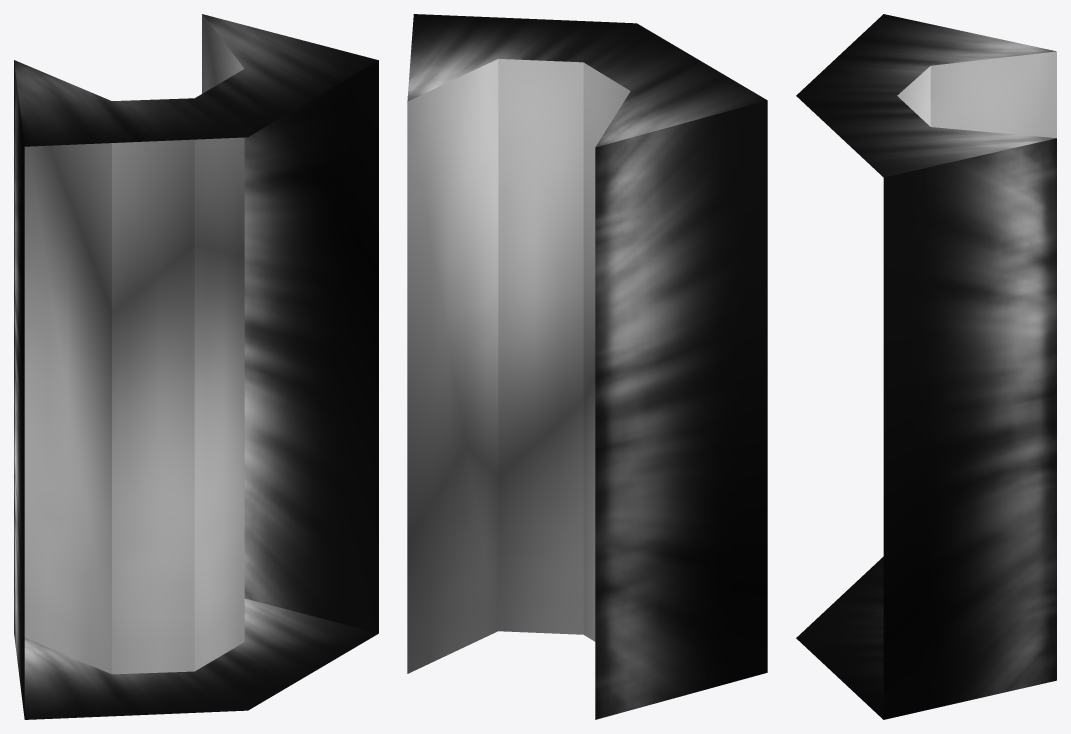
Rendered from Light_Neon_lightcone.FBX.
3 renders of one model, left to right at view 1: azimuth 30°, elevation 25°; view 2: azimuth 150°, elevation 25°; view 3: azimuth 270°, elevation 25°, orthographic. The views are drawn at different scales.
Parts seen in each view (by area): view 1: Light_Neon_lightcone; view 2: Light_Neon_lightcone; view 3: Light_Neon_lightcone.
Boxes of the visible parts, bbox=[...] form: Light_Neon_lightcone: bbox=[14, 14, 378, 719]; Light_Neon_lightcone: bbox=[407, 14, 767, 719]; Light_Neon_lightcone: bbox=[796, 14, 1056, 719].
Bounding box in the file's own units: 59.07 × 91.33 × 39.83.
